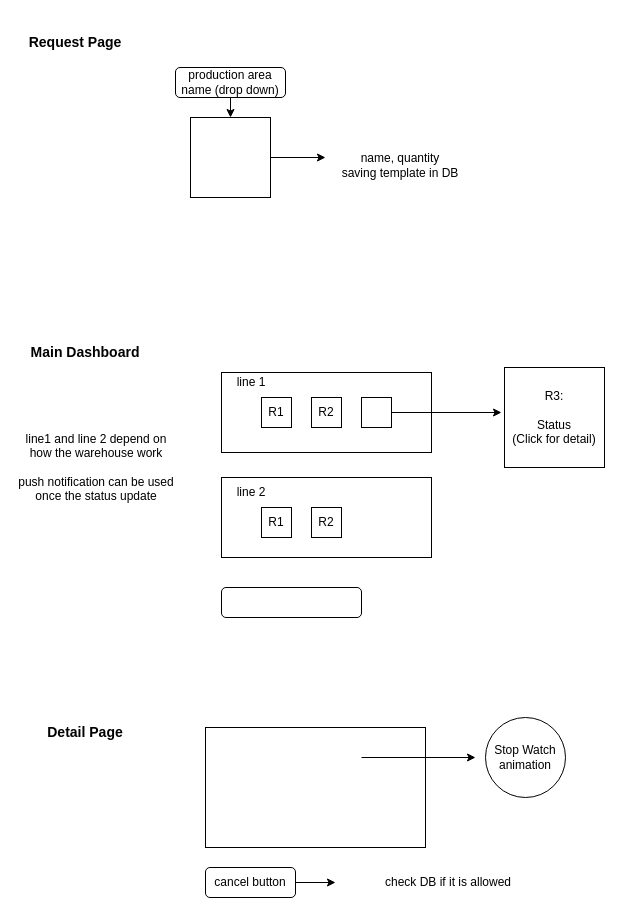
Some shapes in this 622 by 915 pixel diagram are drawn without their labels. The shapes that lost their labels are listed below. From the top down, each one's box as (x1, y1, x2, y2) in pixels, then its label:
(190, 116, 270, 198): Template Raw material layout
(360, 396, 392, 428): R3
(220, 586, 362, 618): add new request button
(204, 726, 426, 848): Current event History: Event a time stamp Event b time stamp Event c time stamp
